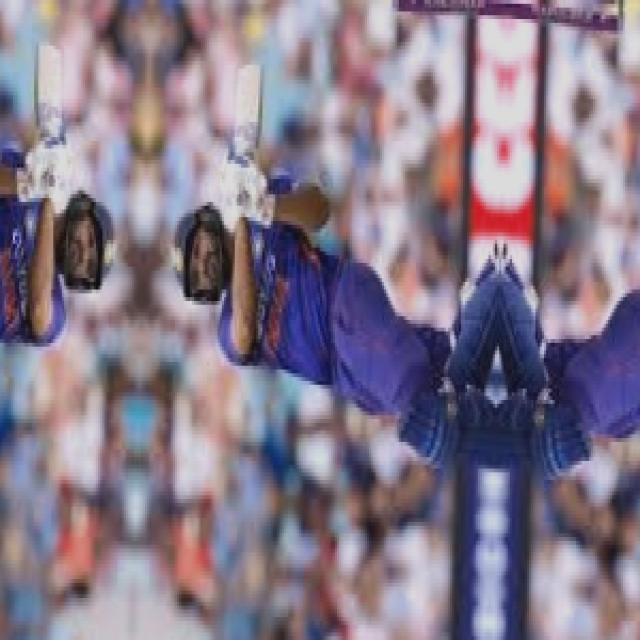toe: (234, 60, 266, 82)
